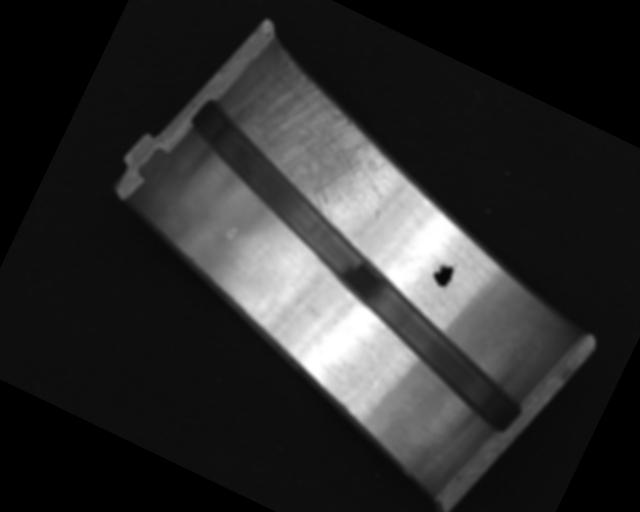blot: (426, 254, 460, 291)
bruise: (225, 223, 240, 241)
gap: (130, 97, 586, 437)
nick: (372, 340, 407, 393)
scratch: (218, 53, 422, 242)
